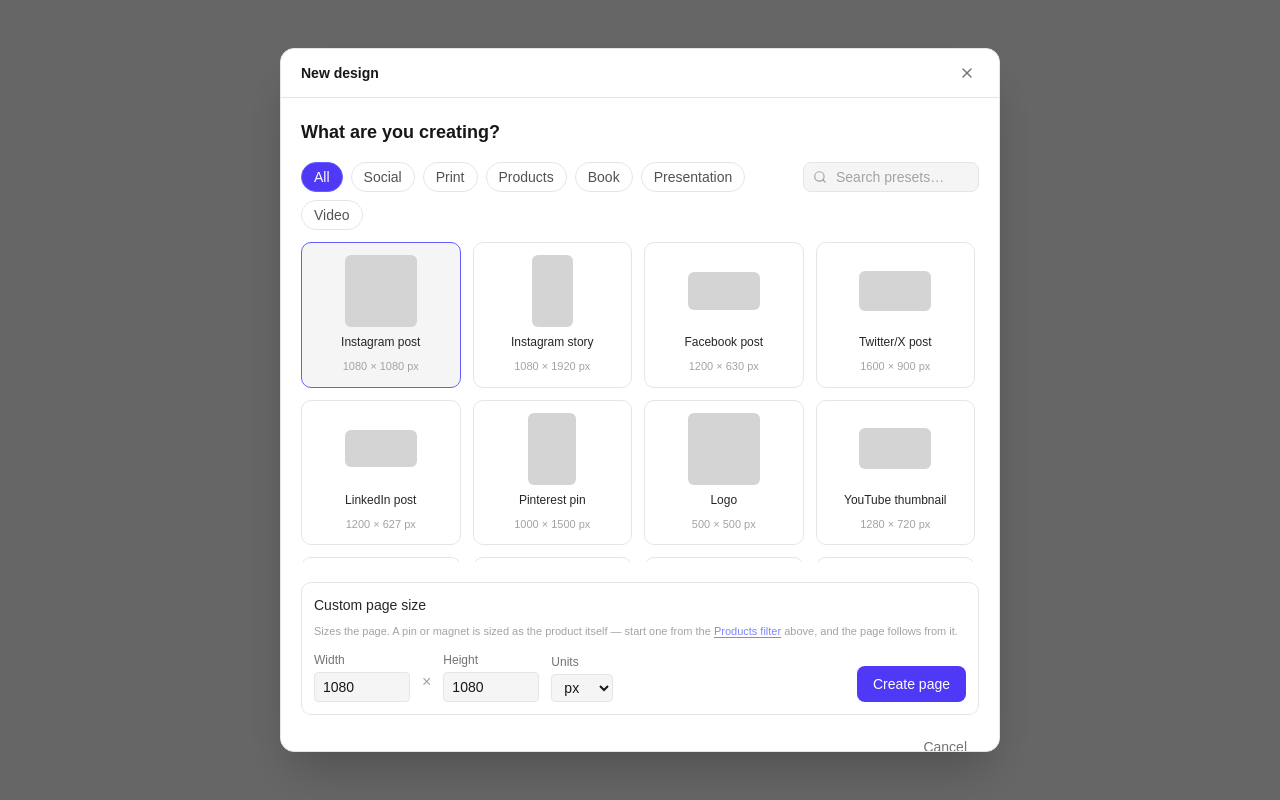
Test: NewDesignModal — print products › lands the products tab on a product, with the page-size box below it
Click the button "Products".
click(526, 177)  # box [486,162,567,192]
(page scrolled)
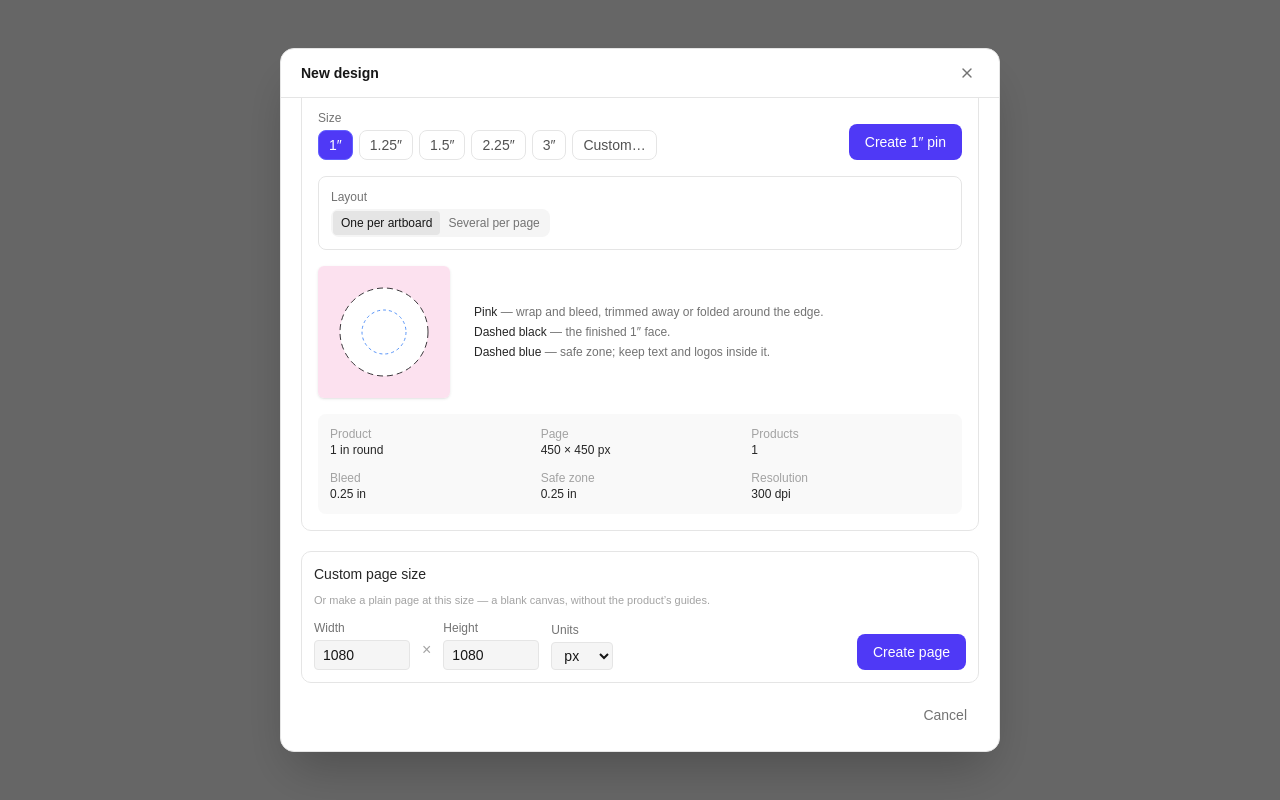
expect the button "Create page" is shown: met, box [857,634,966,670]
expect the button "Create 1″ pin" is shown: met, box [849,124,962,160]
